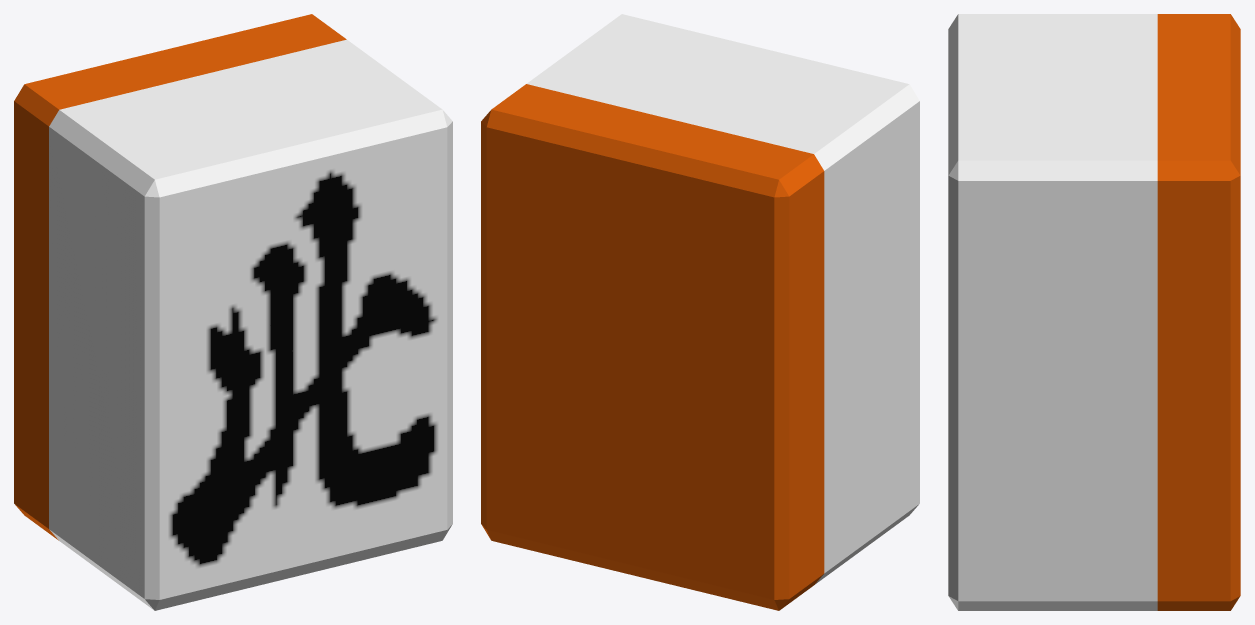
File: North.gltf
The picture shows the model from 3 angles, left to right: view 1: azimuth 30°, elevation 25°; view 2: azimuth 150°, elevation 25°; view 3: azimuth 270°, elevation 25°; orthographic projection. The views are drawn at different scales.
Parts seen in each view (by area): view 1: Cube; view 2: Cube; view 3: Cube.
Boxes of the visible parts, <box> form: Cube: <box>14,14,452,610</box>; Cube: <box>481,14,919,610</box>; Cube: <box>948,14,1240,610</box>.
Size of the model in its own units: 1.95 by 2.6 by 1.53.
3 materials, 1 textured.
